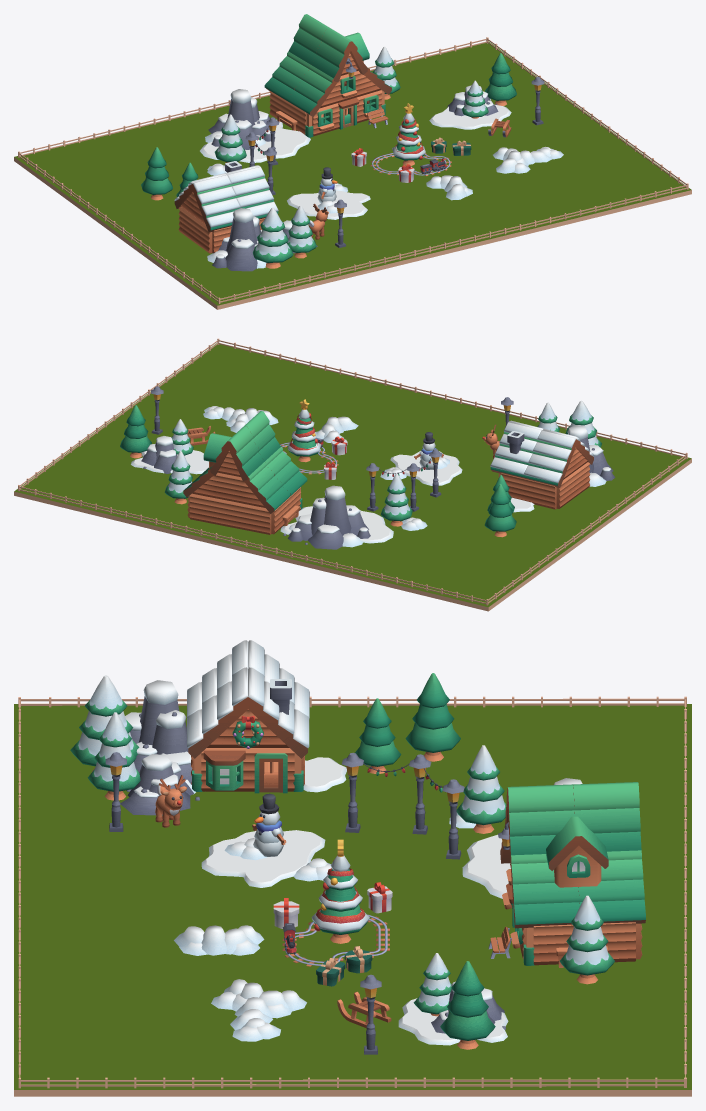
File: Level1Map.glb
3 renders of one model, top to bottom at view 1: azimuth 30°, elevation 25°; view 2: azimuth 150°, elevation 25°; view 3: azimuth 270°, elevation 25°, orthographic. The views are drawn at different scales.
Visible parts, largest first — view 1: cliff_block_rock, rocks-large, rocks-large.001, cabin-roof-snow.001, cabin-roof-snow, cabin-roof-point, tree-snow-a.002, snow-flat-large.002, cabin-roof.002, snow-flat-large.001, cabin-roof.003, tree-decorated-snow.001 (+17 smaller); view 2: cliff_block_rock, rocks-large.001, cabin-roof-snow.002, cabin-roof-snow-chimney, cabin-roof-point.001, cabin-roof.003, tree-decorated-snow.001, snow-flat-large.001, tree.002, tree-snow-a.004, rocks-large, cabin-roof.002 (+18 smaller); view 3: cliff_block_rock, cabin-roof-point, rocks-large, cabin-roof-point.001, cabin-roof, snow-flat-large.001, cabin-roof.001, cabin-roof-dormer, cabin-roof-snow-chimney, tree-decorated-snow.001, cabin-roof-snow, tree (+32 smaller).
Part boxes in pixels (<box>): cliff_block_rock: <box>14,41,691,309</box>; rocks-large: <box>207,208,266,271</box>; rocks-large.001: <box>205,89,275,149</box>; cabin-roof-snow.001: <box>192,174,240,232</box>; cabin-roof-snow: <box>227,166,278,219</box>; cabin-roof-point: <box>311,27,367,82</box>; tree-snow-a.002: <box>253,207,293,268</box>; snow-flat-large.002: <box>200,119,310,162</box>; cabin-roof.002: <box>287,65,337,117</box>; snow-flat-large.001: <box>287,191,370,219</box>; cabin-roof.003: <box>264,51,310,101</box>; tree-decorated-snow.001: <box>392,103,425,165</box>; cliff_block_rock: <box>14,343,691,611</box>; rocks-large.001: <box>283,485,370,549</box>; cabin-roof-snow.002: <box>523,430,575,487</box>; cabin-roof-snow-chimney: <box>490,422,541,478</box>; cabin-roof-point.001: <box>210,426,264,480</box>; cabin-roof.003: <box>244,462,290,513</box>; tree-decorated-snow.001: <box>287,399,321,462</box>; snow-flat-large.001: <box>390,451,462,485</box>; tree.002: <box>484,484,516,537</box>; tree-snow-a.004: <box>380,473,412,526</box>; rocks-large: <box>567,425,615,486</box>; cabin-roof.002: <box>265,447,307,495</box>; cliff_block_rock: <box>14,704,691,1096</box>; cabin-roof-point: <box>504,784,574,860</box>; rocks-large: <box>125,680,195,794</box>; cabin-roof-point.001: <box>573,782,641,851</box>; cabin-roof: <box>510,854,579,928</box>; snow-flat-large.001: <box>201,830,325,887</box>; cabin-roof.001: <box>578,850,645,923</box>; cabin-roof-dormer: <box>546,816,608,887</box>; cabin-roof-snow-chimney: <box>248,667,309,758</box>; tree-decorated-snow.001: <box>311,839,369,943</box>; cabin-roof-snow: <box>187,667,248,758</box>; tree: <box>440,961,495,1049</box>.
Size of the model in its own units: 151 by 27.72 by 112.
Materials: 335 (117 with a texture image).
